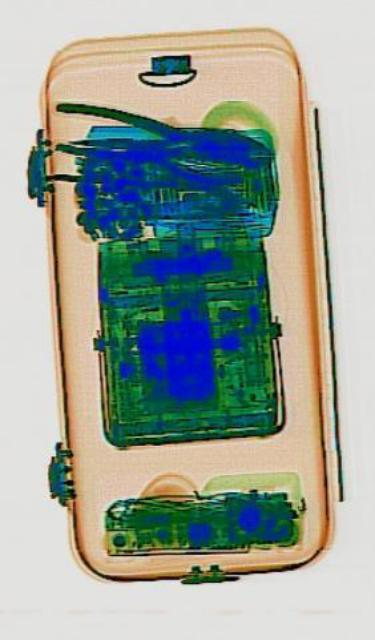Pliers: (51, 98, 268, 178)
